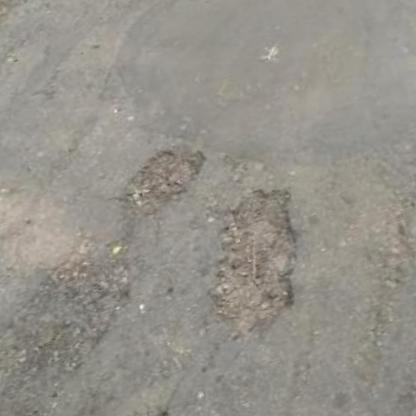pothole: (179, 176, 325, 347), (2, 250, 132, 366), (105, 136, 222, 230)
